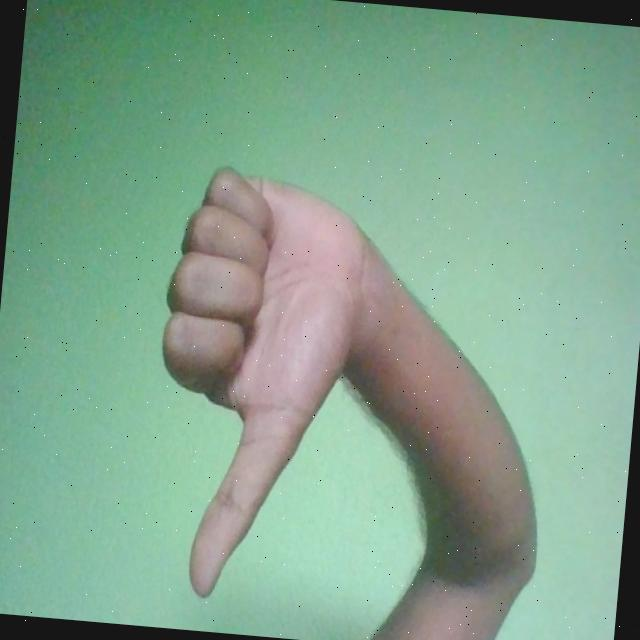Dislike: (140, 159, 382, 612)
